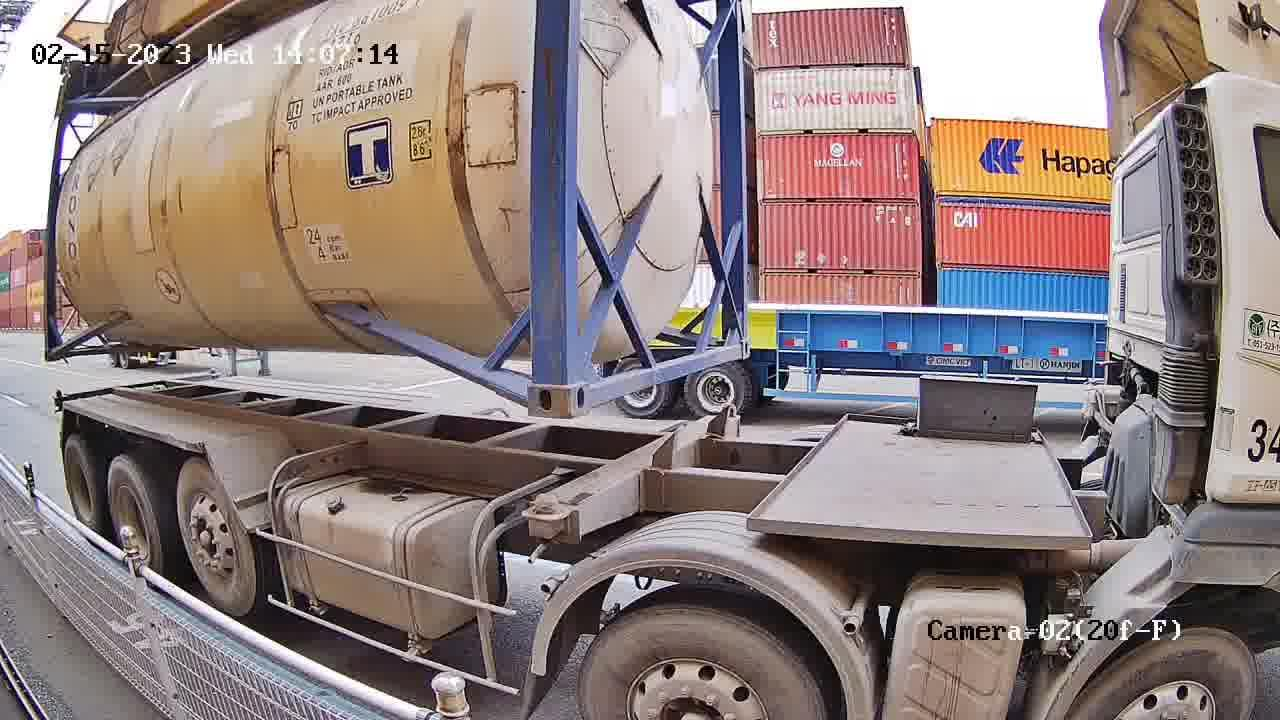Chassis: (549, 414, 740, 540)
Cone: (521, 488, 570, 566)
Hole_L: (565, 331, 626, 414)
Hole_R: (481, 335, 566, 418), (718, 308, 753, 366)
Tire: (578, 609, 826, 719), (1070, 634, 1258, 719), (175, 458, 254, 610), (108, 459, 157, 561), (63, 438, 102, 520)
